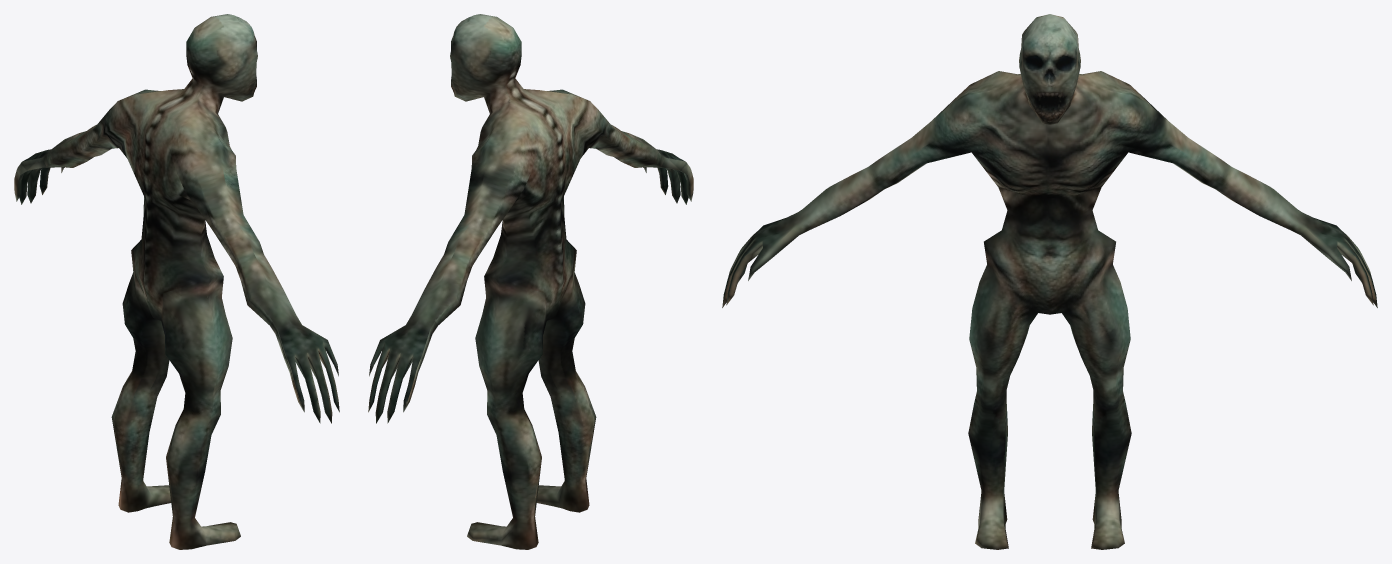
File: Character_Monster_06.fbx
3 views of the same model, side by side, from view 1: azimuth 30°, elevation 25°; view 2: azimuth 150°, elevation 25°; view 3: azimuth 270°, elevation 25° (orthographic). The views are drawn at different scales.
Visible parts, largest first — view 1: Character_Monster_06; view 2: Character_Monster_06; view 3: Character_Monster_06.
Boxes of the visible parts, <box> form: Character_Monster_06: <box>14,14,339,549</box>; Character_Monster_06: <box>368,14,693,549</box>; Character_Monster_06: <box>722,14,1377,549</box>.
Size of the model in its own units: 0.4635 by 1.93 by 2.13.
